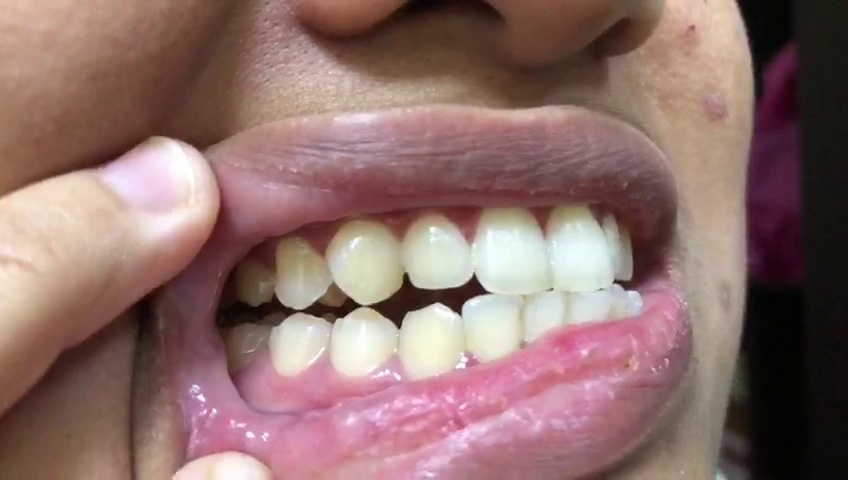1st Molar: (225, 320, 266, 371)
1st Premolar: (332, 305, 398, 378), (274, 234, 333, 308)
2nd Premolar: (269, 312, 333, 377), (236, 248, 273, 308)
Canine: (328, 219, 402, 305), (398, 300, 464, 382)
Central Incisor: (473, 202, 553, 295), (547, 204, 614, 292)
Lateral Incisor: (401, 208, 473, 288), (462, 288, 524, 360)
